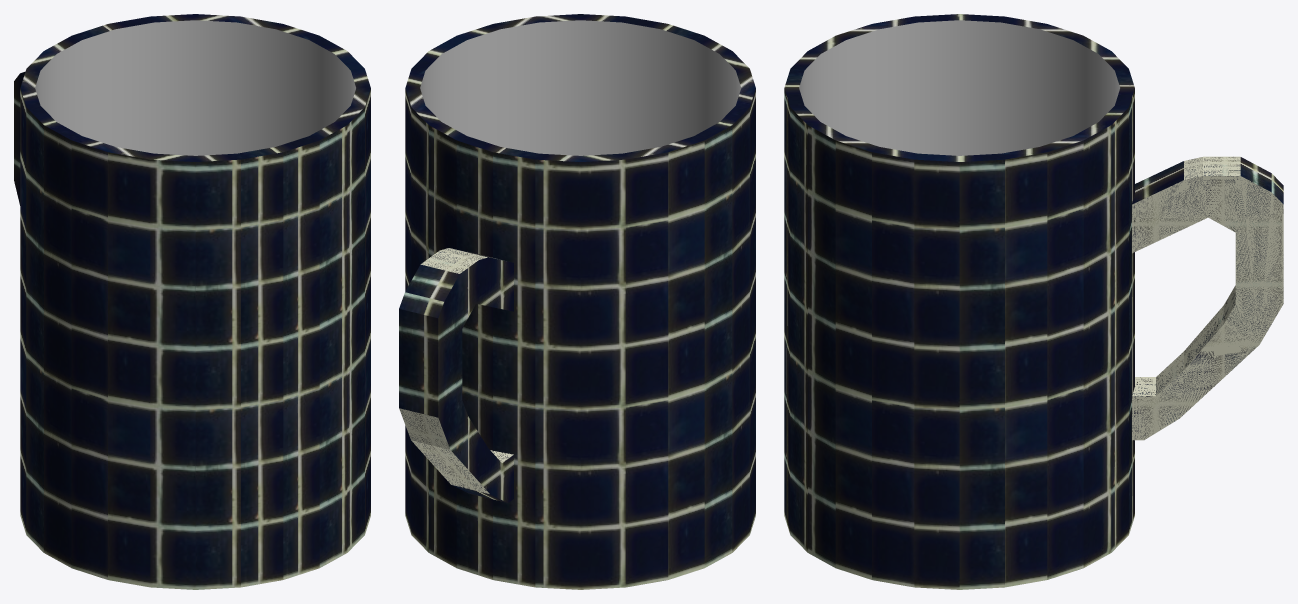
The model's file is cup-black.dae.
3 renders of one model, left to right at view 1: azimuth 30°, elevation 25°; view 2: azimuth 150°, elevation 25°; view 3: azimuth 270°, elevation 25°, orthographic.
Visible parts, largest first — view 1: Component_7 (×3); view 2: Component_7 (×3); view 3: Component_7 (×3).
Boxes of the visible parts, x1,y1,x2,y2 form: Component_7 (×3): (14,14,370,589); Component_7 (×3): (399,14,755,589); Component_7 (×3): (784,14,1283,589).
Size of the model in its own units: 15.89 by 22.63 by 21.4.
